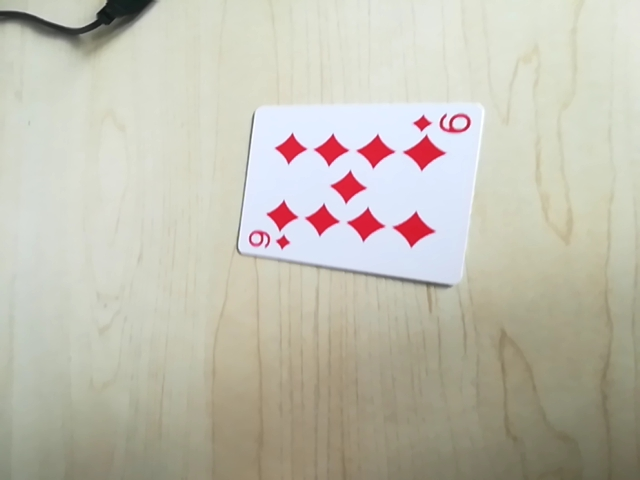fk 9: (411, 106, 475, 139), (242, 226, 296, 257)
